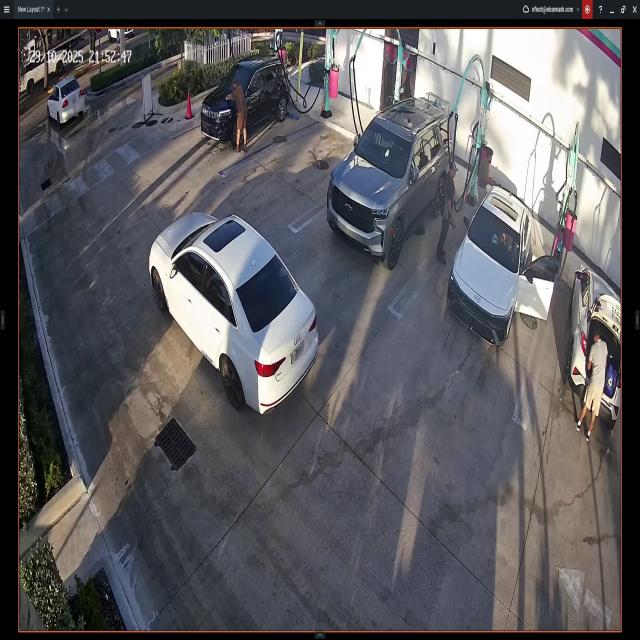Car: (145, 211, 320, 412), (329, 92, 451, 268), (450, 184, 555, 346), (566, 264, 621, 428), (197, 54, 286, 152), (48, 78, 84, 129)
